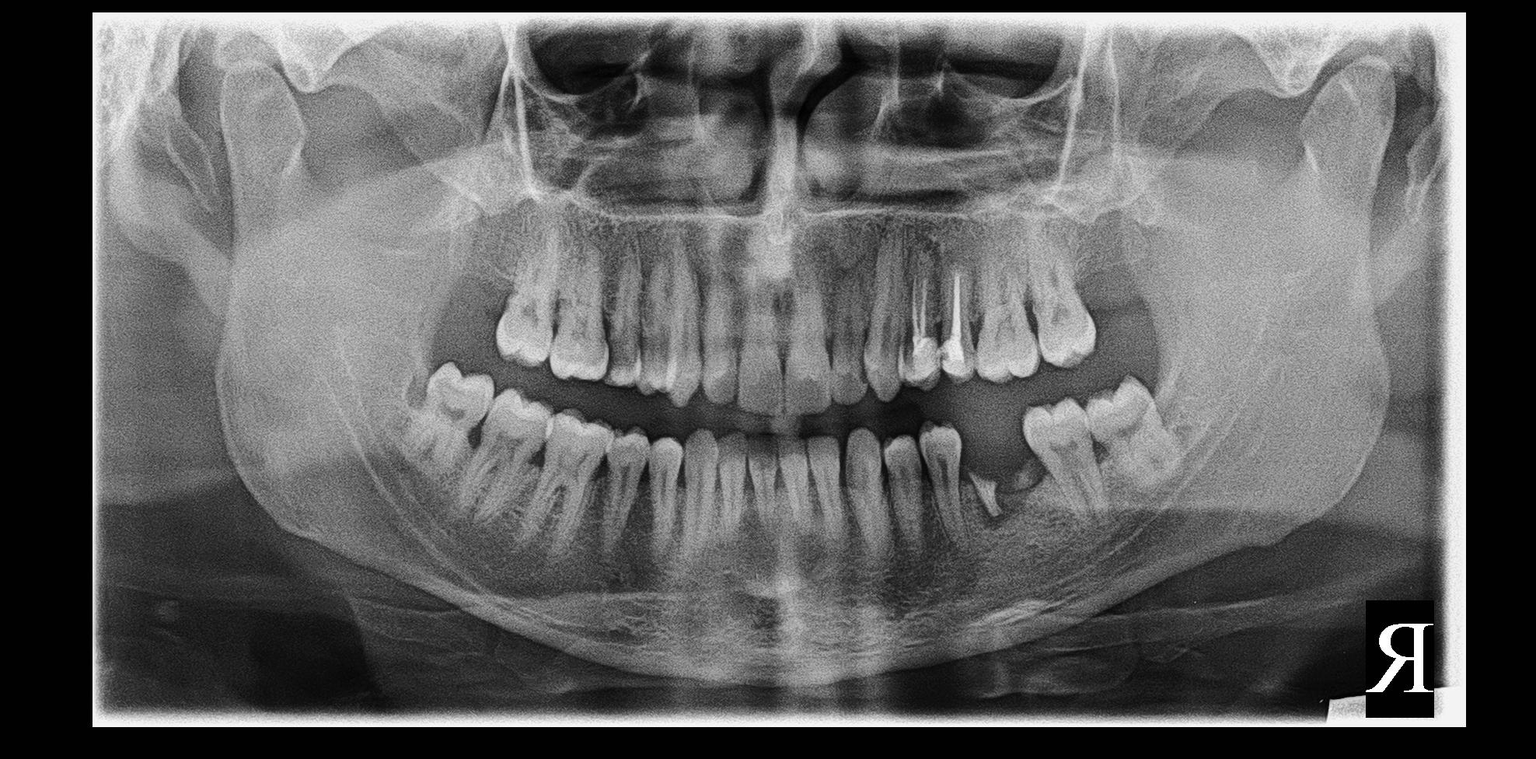Premolars: (511, 214, 1473, 668), (450, 212, 1336, 645), (415, 157, 1245, 562), (471, 47, 1410, 376), (313, 51, 918, 387)
